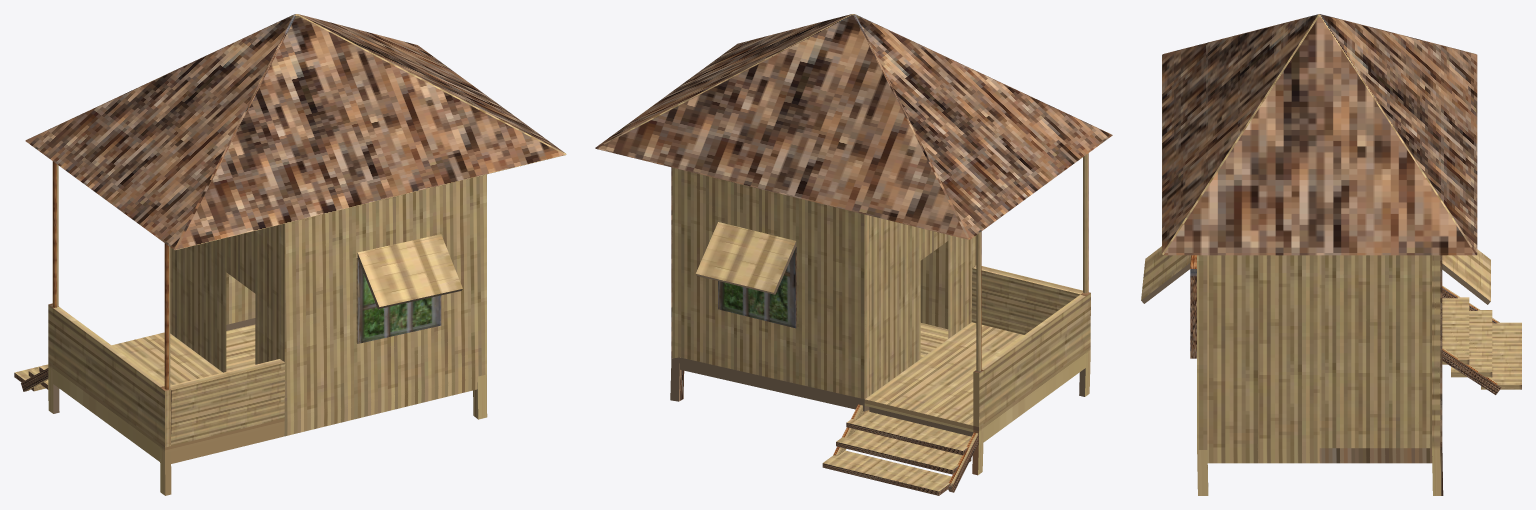
Rendered from house 23.fbx.
3 renders of one model, left to right at view 1: azimuth 30°, elevation 25°; view 2: azimuth 150°, elevation 25°; view 3: azimuth 270°, elevation 25°, orthographic. The views are drawn at different scales.
Parts seen in each view (by area): view 1: Cube.004, Cube.001; view 2: Cube.004, Cube.001; view 3: Cube.004, Cube.001.
Part boxes in pixels (left/top/right/bottom): Cube.004: left=14, top=14, right=566, bottom=495; Cube.001: left=356, top=234, right=462, bottom=343; Cube.004: left=595, top=14, right=1112, bottom=495; Cube.001: left=696, top=222, right=796, bottom=328; Cube.004: left=1162, top=14, right=1521, bottom=495; Cube.001: left=1141, top=246, right=1490, bottom=358.
Bounding box in the file's own units: 388 × 372 × 311.
